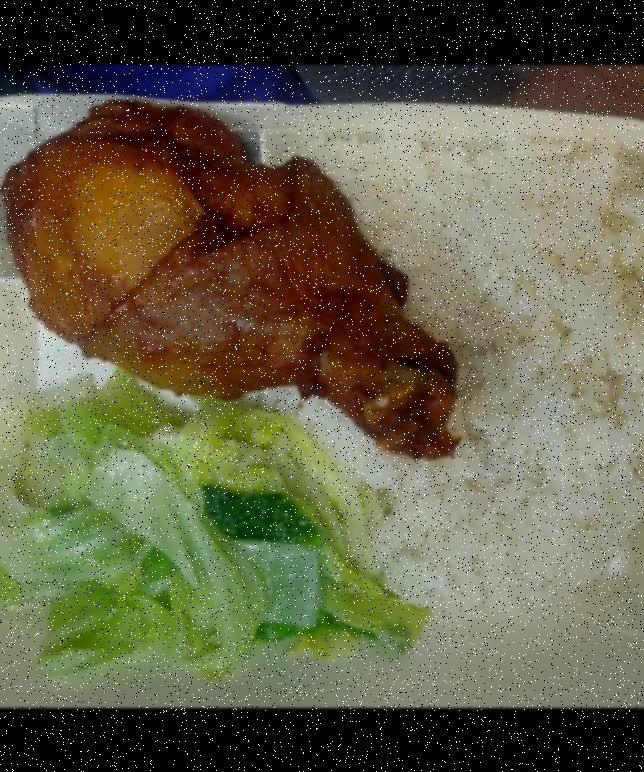big grilled chicken leg: (0, 89, 644, 672)
big herbal chicken leg: (251, 124, 644, 611)
braised fish fillet: (0, 389, 415, 675)
braised pork: (0, 97, 452, 458)
